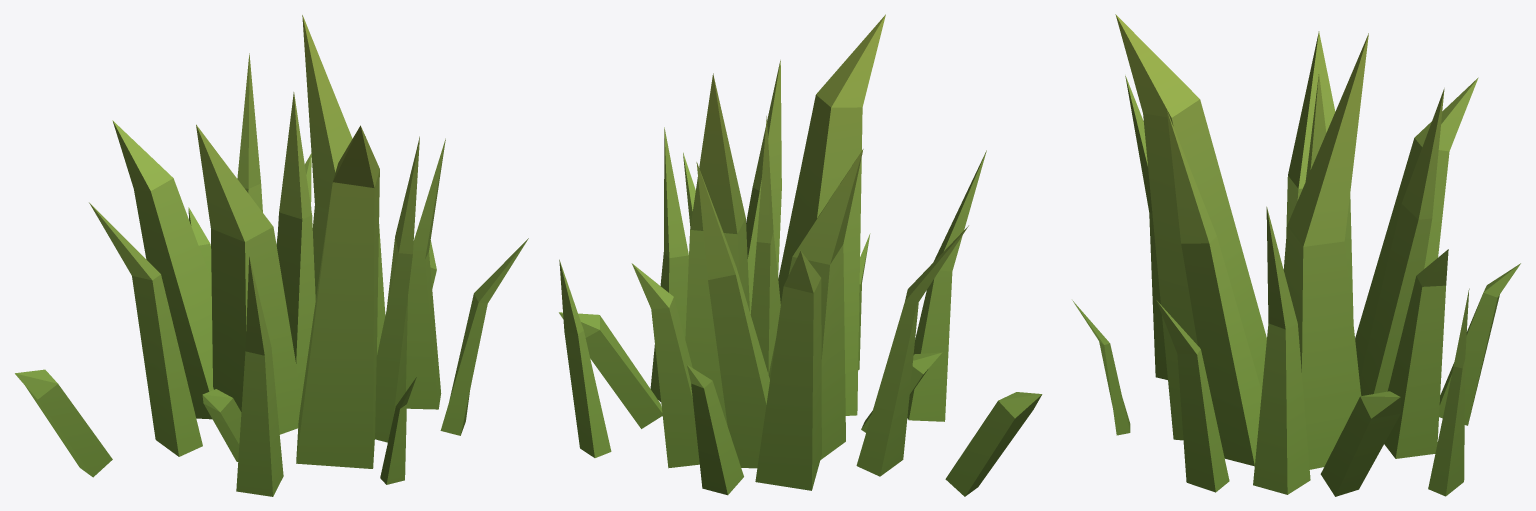
File: Grass_07.fbx
3 renders of one model, left to right at view 1: azimuth 30°, elevation 25°; view 2: azimuth 150°, elevation 25°; view 3: azimuth 270°, elevation 25°, orthographic. The views are drawn at different scales.
Parts seen in each view (by area): view 1: Grass_07; view 2: Grass_07; view 3: Grass_07.
Boxes of the visible parts, x1=… form: Grass_07: x1=15, y1=15, x2=528, y2=496; Grass_07: x1=559, y1=14, x2=1042, y2=496; Grass_07: x1=1072, y1=14, x2=1520, y2=496.
Bounding box in the file's own units: 1.23 × 1 × 0.9774.
